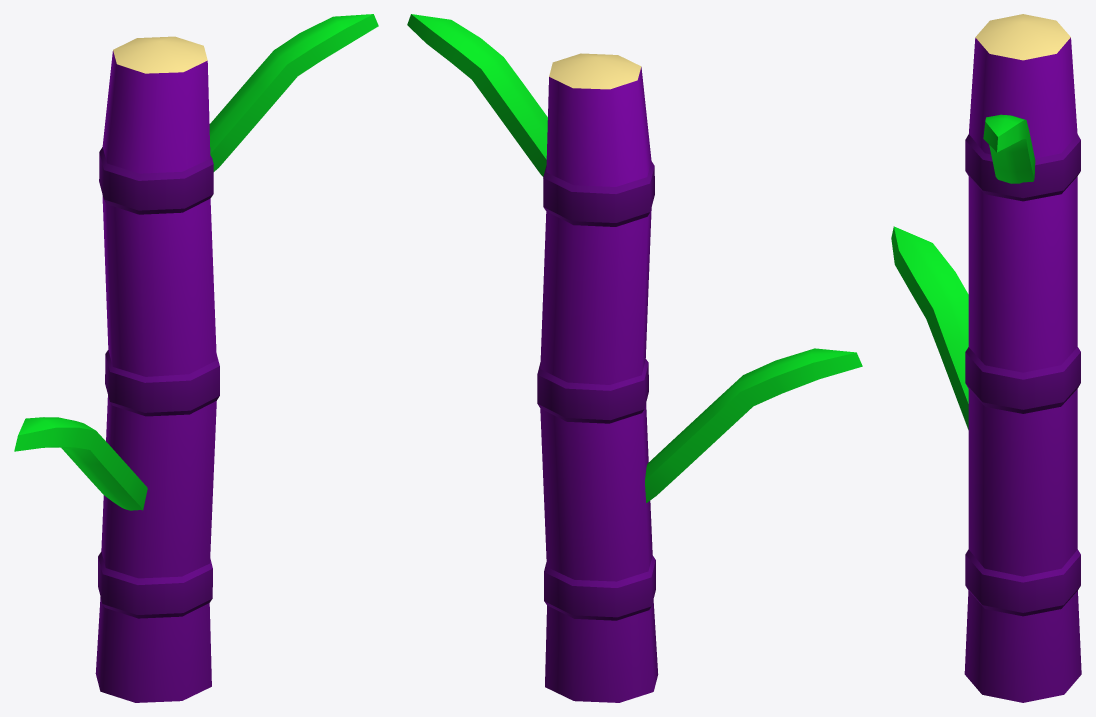
The model's file is Farm_Crop_Sugurcane_01.fbx.
3 renders of one model, left to right at view 1: azimuth 30°, elevation 25°; view 2: azimuth 150°, elevation 25°; view 3: azimuth 270°, elevation 25°, orthographic. The views are drawn at different scales.
Parts seen in each view (by area): view 1: Farm_Crop_Sugurcane_01; view 2: Farm_Crop_Sugurcane_01; view 3: Farm_Crop_Sugurcane_01.
Boxes of the visible parts, x1,y1,x2,y2 form: Farm_Crop_Sugurcane_01: (14,14,378,702); Farm_Crop_Sugurcane_01: (407,14,862,702); Farm_Crop_Sugurcane_01: (891,14,1081,702).
Bounding box in the file's own units: 42.85 × 62.91 × 16.52.
